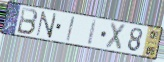8: (127, 27, 144, 53)
B: (15, 6, 39, 36)
I: (86, 18, 99, 47), (65, 15, 76, 43)
N: (35, 11, 58, 40)
X: (104, 21, 128, 52)
